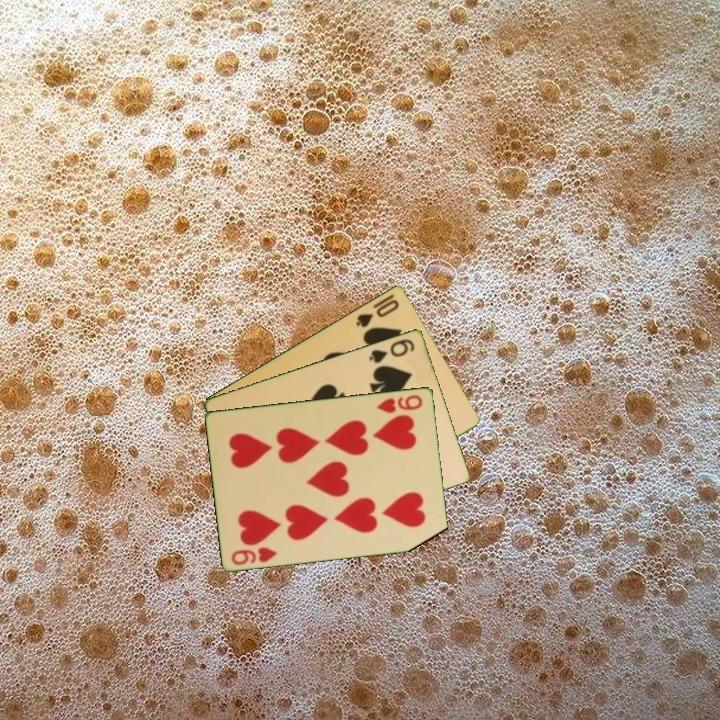10s: (352, 295, 402, 330)
6s: (365, 335, 418, 366)
9h: (228, 543, 280, 568), (374, 391, 425, 416)
